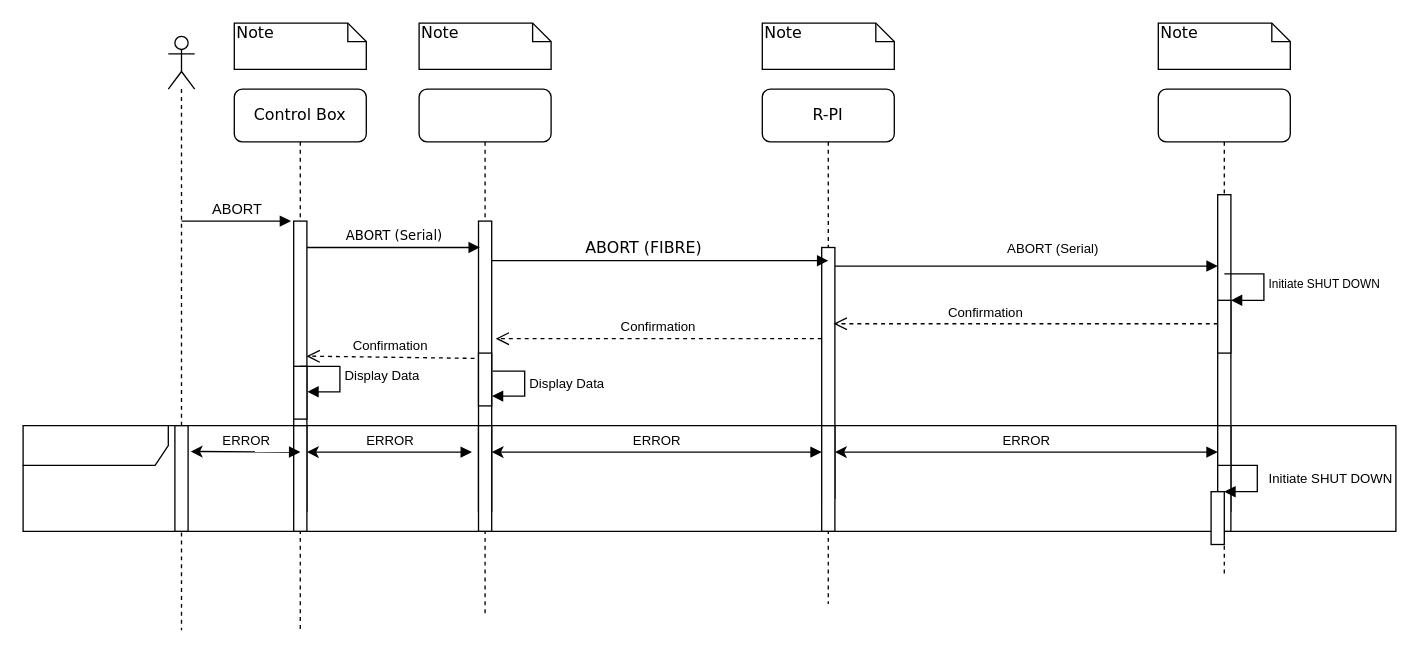
The diagram is 1419 pixels wide and 653 high, and some of its shapes have lost their labels. The box of each missing label's shape, as (x1, y1, x2, y2) in pixels:
Arduino: (1157, 88, 1290, 578)
If: Confirmation Fails: (22, 424, 1396, 531)
MCC: (418, 88, 551, 617)
